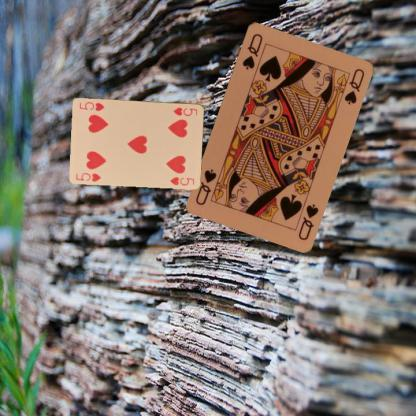5h: (171, 105, 199, 117), (74, 170, 102, 182)
Qs: (295, 200, 320, 242), (239, 30, 264, 71)
